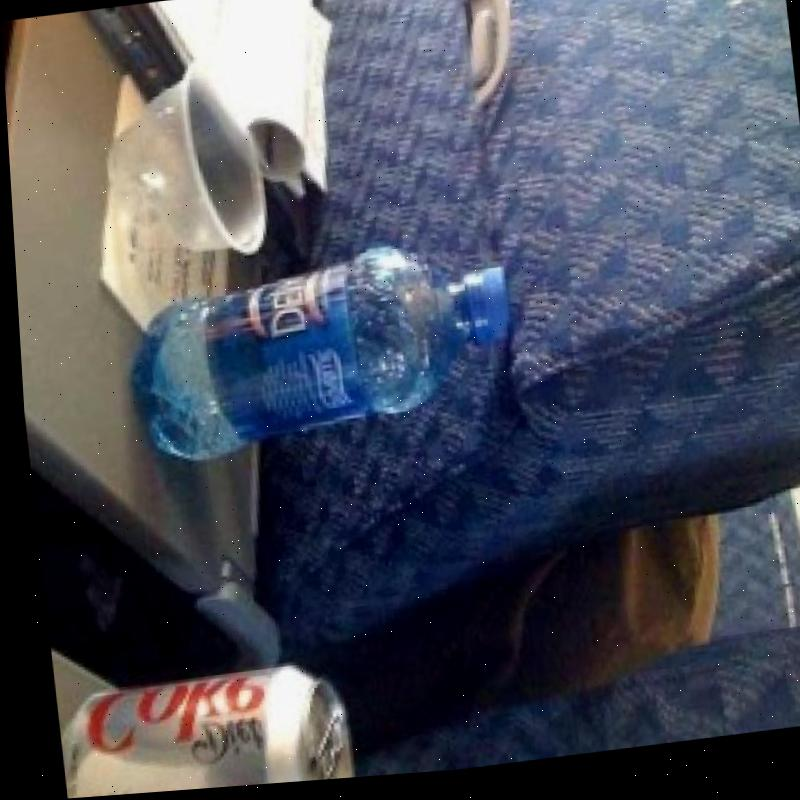botella: (117, 233, 516, 470)
